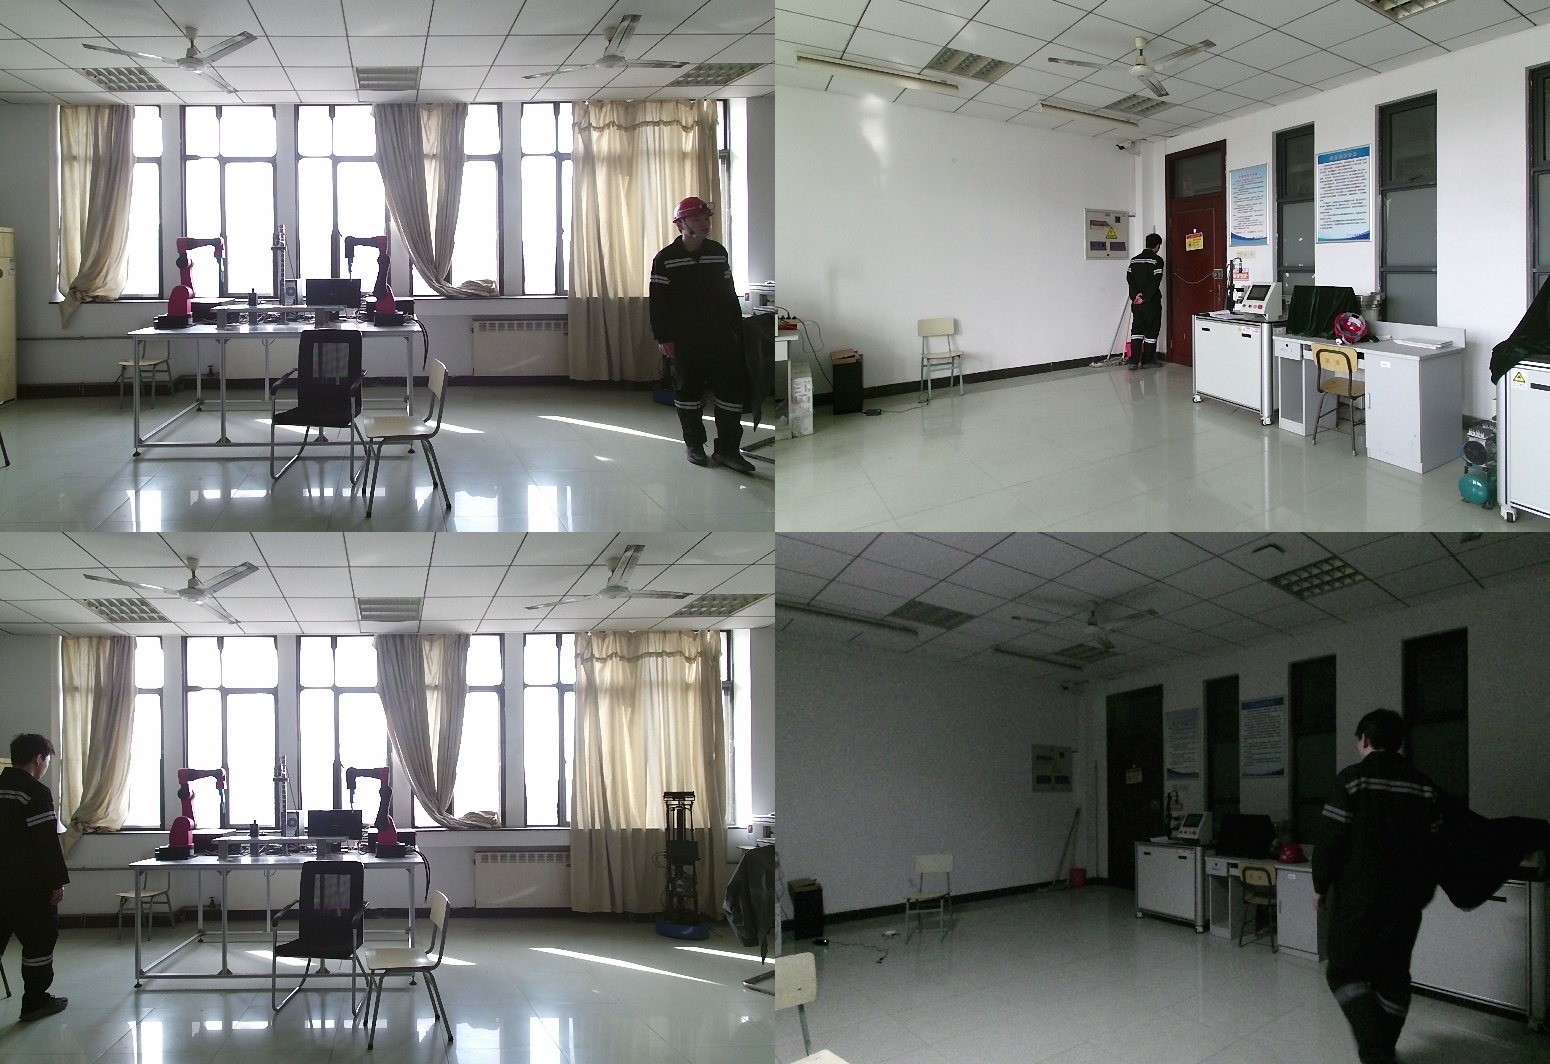person: (1290, 720, 1441, 1064), (651, 199, 757, 470), (2, 734, 75, 1030), (1123, 231, 1167, 371)
